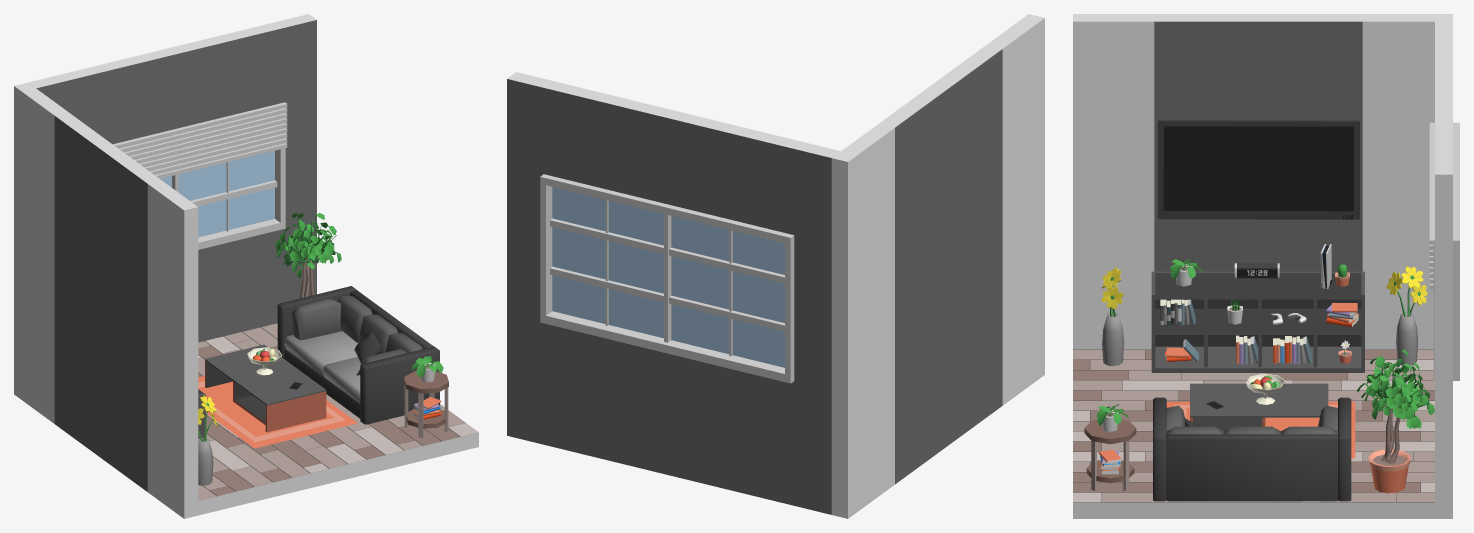
Rendered from room_24.glb.
3 renders of one model, left to right at view 1: azimuth 30°, elevation 25°; view 2: azimuth 150°, elevation 25°; view 3: azimuth 270°, elevation 25°, orthographic. The views are drawn at different scales.
Parts seen in each view (by area): view 1: Walls_046.003, Walls_046.006, Walls_006.052, window_029.001, sofa_005.001, Walls_006.022, floor_018.002, Walls_046.002, Walls_046.005, coffee_table_016.003, Walls_011.014, carpet_011.001 (+6 smaller); view 2: Walls_046.003, window_029.001, Walls_046.005, Walls_006.022, Walls_046.006, Walls_006.052, Walls_046.004, Walls_046.002; view 3: Walls_046.003, Walls_006.052, Walls_006.022, electronics_027.009, floor_018.002, shelf_076.001, sofa_005.001, Walls_011.014, Walls_046.002, flower_009.002, coffee_table_016.003, window_029.001 (+15 smaller).
Boxes of the visible parts, left/top/right/bottom form: Walls_046.003: left=54, top=112, right=161, bottom=491; Walls_046.006: left=63, top=22, right=281, bottom=144; Walls_006.052: left=147, top=180, right=198, bottom=518; window_029.001: left=113, top=102, right=287, bottom=249; sofa_005.001: left=277, top=286, right=439, bottom=424; Walls_006.022: left=14, top=82, right=68, bottom=423; floor_018.002: left=198, top=323, right=478, bottom=500; Walls_046.002: left=274, top=14, right=316, bottom=302; Walls_046.005: left=198, top=229, right=281, bottom=342; coffee_table_016.003: left=205, top=344, right=326, bottom=432; Walls_011.014: left=198, top=327, right=478, bottom=515; carpet_011.001: left=198, top=376, right=357, bottom=448; Walls_046.003: left=879, top=45, right=1002, bottom=484; window_029.001: left=540, top=174, right=794, bottom=383; Walls_046.005: left=547, top=324, right=791, bottom=504; Walls_006.022: left=831, top=124, right=894, bottom=518; Walls_046.006: left=547, top=82, right=799, bottom=234; Walls_006.052: left=987, top=14, right=1044, bottom=405; Walls_046.004: left=791, top=141, right=840, bottom=514; Walls_046.002: left=507, top=72, right=556, bottom=445; Walls_046.003: left=1154, top=14, right=1362, bottom=271; Walls_006.052: left=1073, top=14, right=1154, bottom=349; Walls_006.022: left=1362, top=14, right=1452, bottom=349; electronics_027.009: left=1157, top=120, right=1359, bottom=219; floor_018.002: left=1073, top=350, right=1434, bottom=502; shelf_076.001: left=1151, top=271, right=1364, bottom=372; sofa_005.001: left=1153, top=397, right=1351, bottom=501; Walls_011.014: left=1073, top=349, right=1434, bottom=518; Walls_046.002: left=1435, top=155, right=1452, bottom=518; flower_009.002: left=1357, top=349, right=1434, bottom=493; coffee_table_016.003: left=1190, top=383, right=1328, bottom=430; window_029.001: left=1429, top=122, right=1459, bottom=380.
Size of the model in its own units: 4.2 by 4.2 by 4.28.
1 material, 1 textured.
